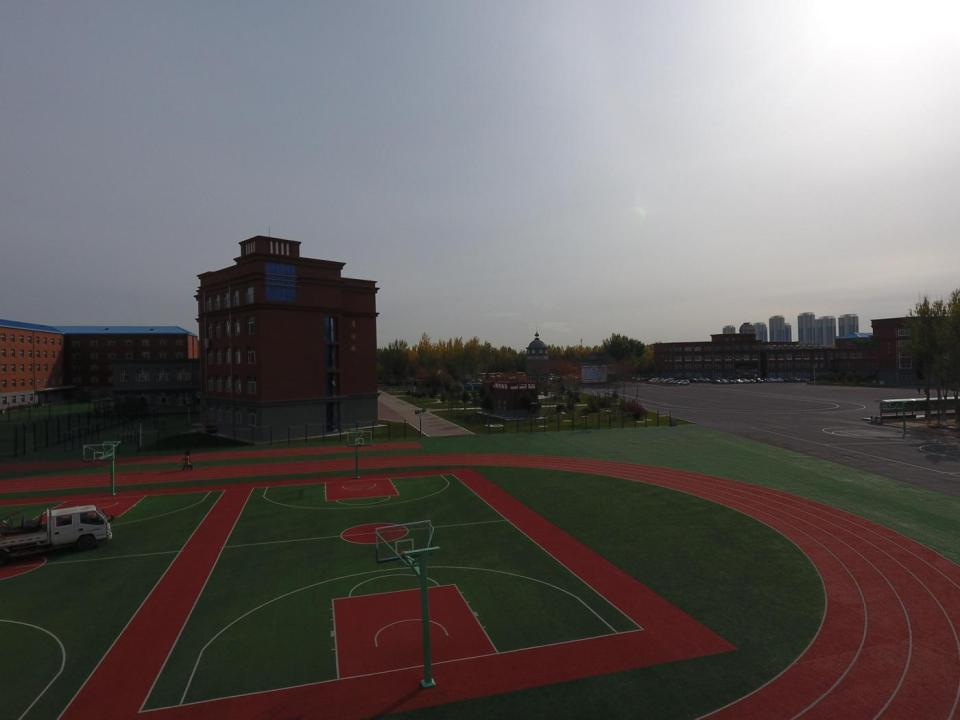bus: (488, 373, 499, 382), (495, 373, 507, 380), (478, 373, 487, 382)
car: (677, 380, 690, 386), (764, 377, 777, 383), (711, 379, 723, 385), (700, 377, 711, 383), (800, 376, 811, 382), (689, 378, 701, 383), (734, 379, 744, 384), (748, 378, 756, 384), (654, 378, 662, 384), (698, 377, 706, 383), (740, 379, 749, 384), (754, 378, 763, 383), (721, 379, 729, 384), (792, 377, 800, 382), (672, 380, 682, 384), (775, 378, 784, 382), (667, 380, 676, 384), (662, 378, 671, 382), (649, 378, 658, 382), (473, 378, 482, 382), (728, 380, 736, 384), (642, 377, 650, 381), (658, 378, 665, 382), (631, 376, 638, 380), (784, 378, 790, 382), (669, 376, 674, 380), (636, 377, 641, 380)
truck: (0, 503, 112, 548)
